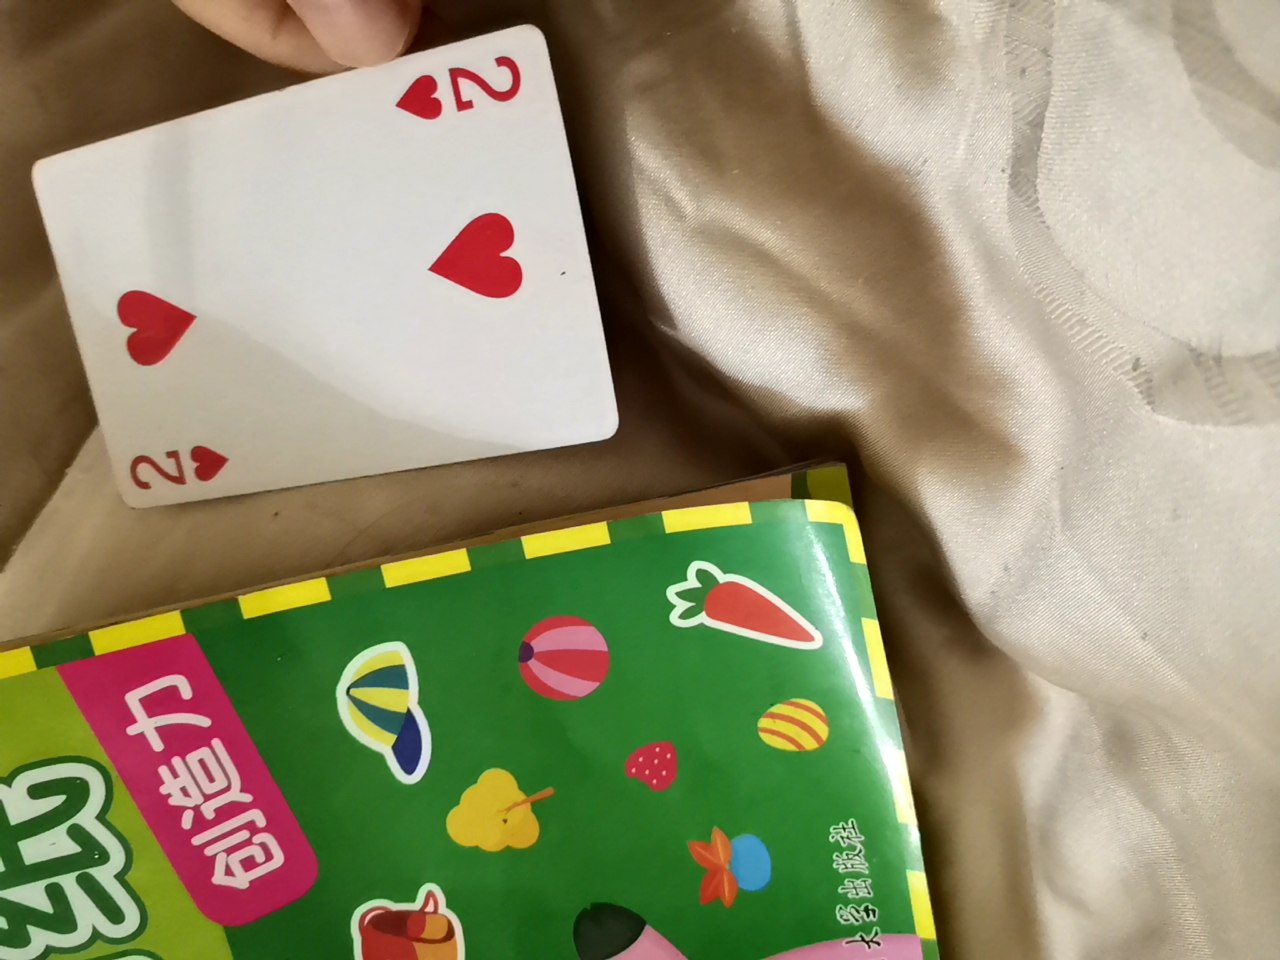hx 2: (38, 32, 629, 485)
